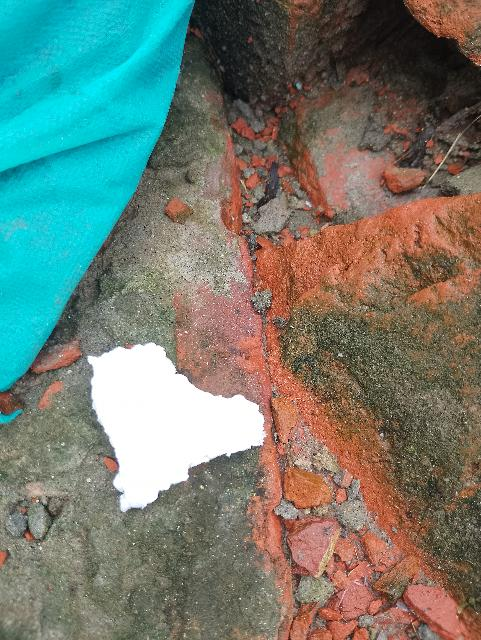cocksheet: (44, 290, 270, 520)
